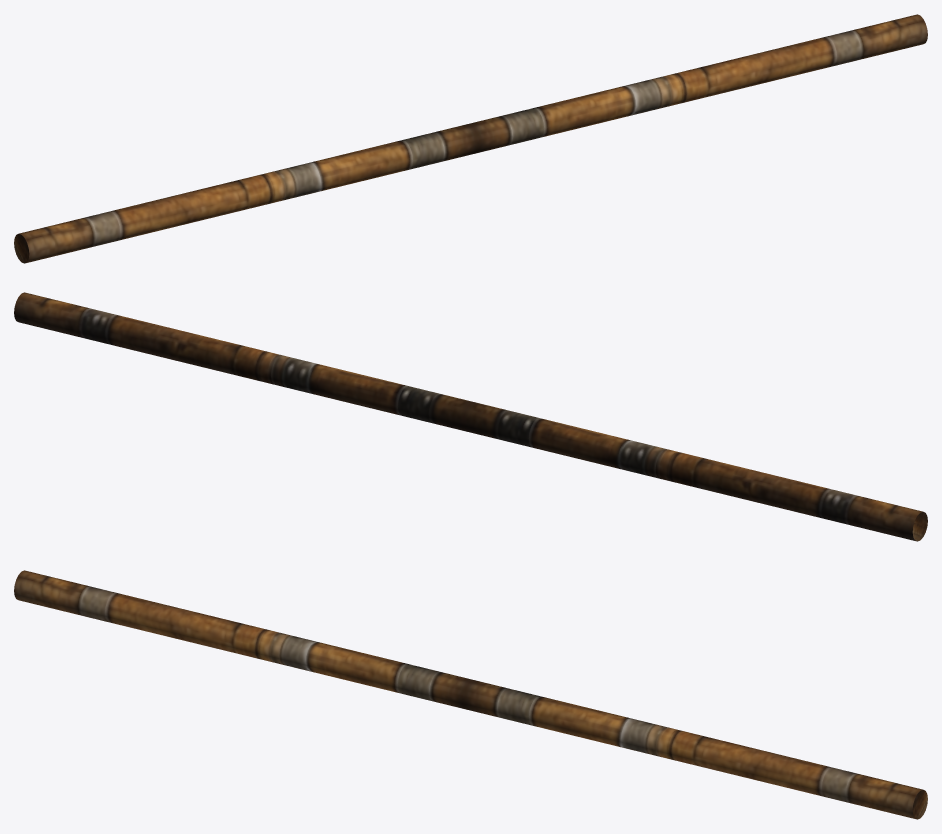
The model's file is yardarm.glb.
3 views of the same model, one above another, from view 1: azimuth 30°, elevation 25°; view 2: azimuth 150°, elevation 25°; view 3: azimuth 330°, elevation 25° (orthographic).
Parts seen in each view (by area): view 1: yardarm; view 2: yardarm; view 3: yardarm.
Boxes of the visible parts, x1,y1,x2,y2 form: yardarm: (14,14,927,263); yardarm: (14,292,927,541); yardarm: (14,570,927,819).
Size of the model in its own units: 10.38 by 0.3066 by 0.3066.
1 material, 1 textured.
